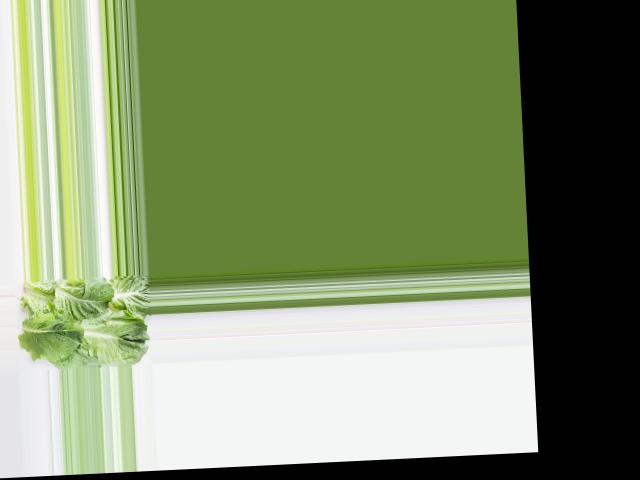lettuce: (19, 273, 150, 368)
